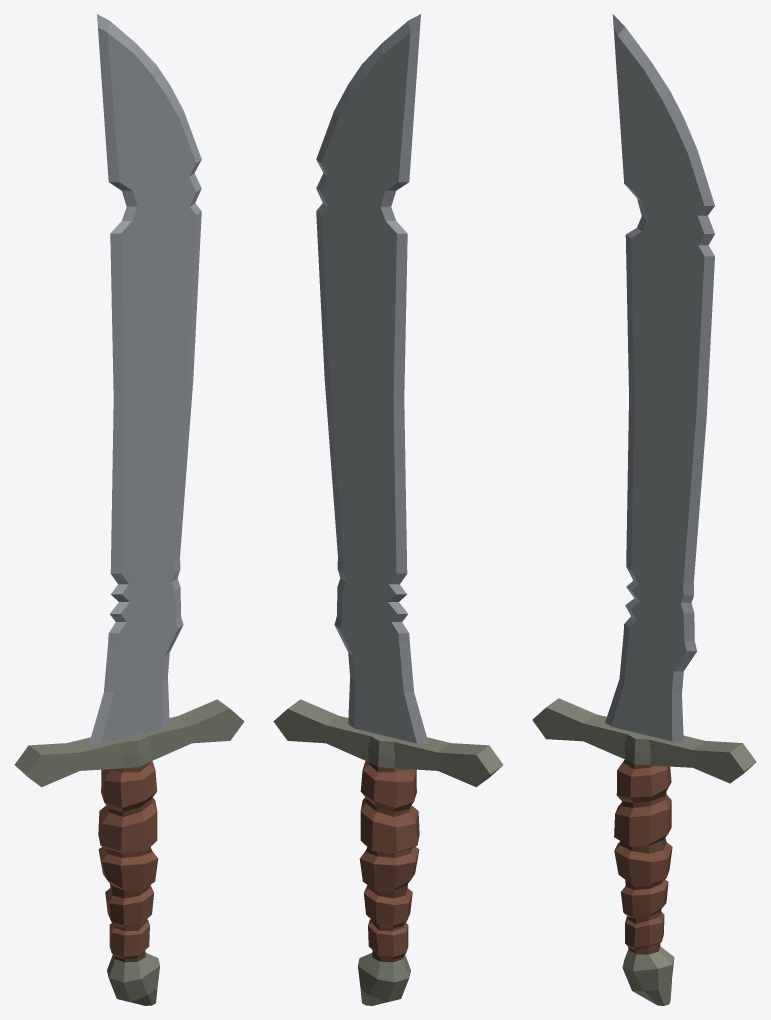
Rendered from quaternius-medieval-weapons-sword-2.glb.
The picture shows the model from 3 angles, left to right: view 1: azimuth 30°, elevation 25°; view 2: azimuth 150°, elevation 25°; view 3: azimuth 330°, elevation 25°; orthographic projection. The views are drawn at different scales.
Parts seen in each view (by area): view 1: Sword_2; view 2: Sword_2; view 3: Sword_2.
Part boxes in pixels (left/top/right/bottom): Sword_2: left=14, top=14, right=244, bottom=1005; Sword_2: left=273, top=14, right=503, bottom=1005; Sword_2: left=532, top=14, right=756, bottom=1005.
Bounding box in the file's own units: 1.22 × 5.36 × 0.3102.
1 material, 1 textured.
